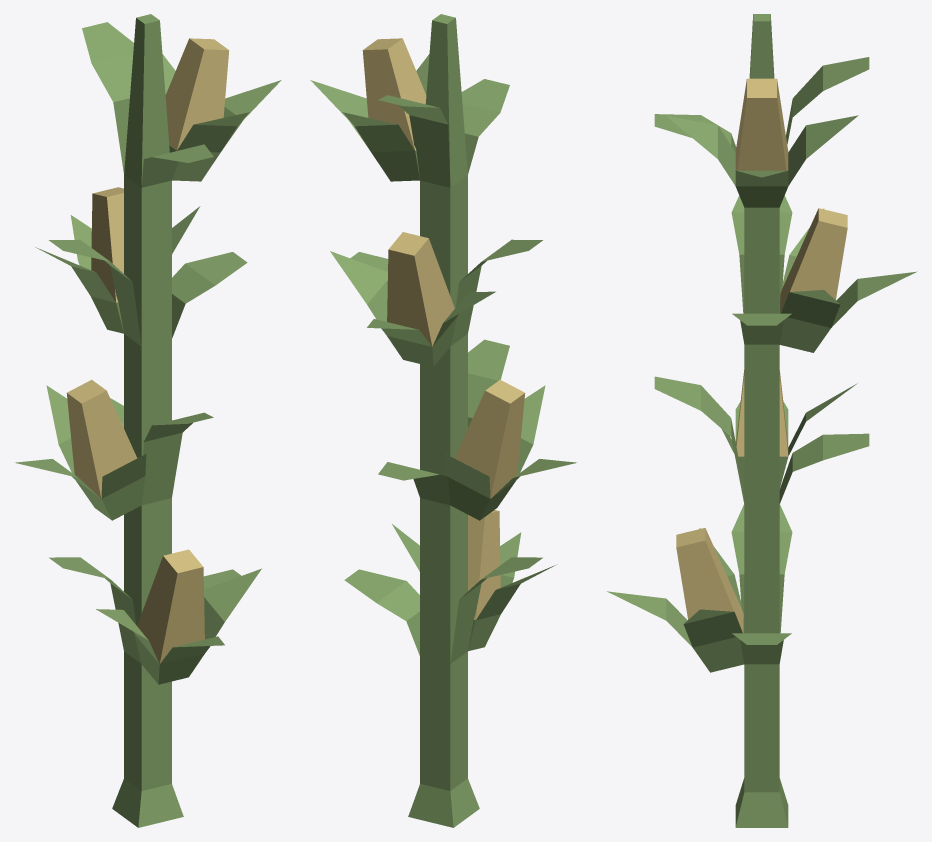
The model's file is corn.glb.
3 renders of one model, left to right at view 1: azimuth 30°, elevation 25°; view 2: azimuth 150°, elevation 25°; view 3: azimuth 270°, elevation 25°, orthographic.
Parts seen in each view (by area): view 1: geometry_0, geometry_8, geometry_6, geometry_2, geometry_7, geometry_5, geometry_1, geometry_4, geometry_3; view 2: geometry_0, geometry_4, geometry_6, geometry_3, geometry_2, geometry_5, geometry_1, geometry_8, geometry_7; view 3: geometry_0, geometry_1, geometry_7, geometry_3, geometry_2, geometry_4, geometry_8, geometry_5, geometry_6.
Boxes of the visible parts, x1,y1,x2,y2 form: geometry_0: [49, 14, 247, 827]; geometry_8: [137, 549, 204, 663]; geometry_6: [66, 379, 137, 498]; geometry_2: [165, 38, 229, 150]; geometry_7: [96, 568, 261, 684]; geometry_5: [15, 385, 146, 520]; geometry_1: [162, 54, 281, 181]; geometry_4: [91, 187, 123, 302]; geometry_3: [35, 206, 200, 333]; geometry_0: [344, 14, 542, 827]; geometry_4: [387, 232, 454, 346]; geometry_6: [454, 379, 525, 498]; geometry_3: [330, 251, 495, 367]; geometry_2: [362, 38, 426, 150]; geometry_5: [445, 385, 576, 520]; geometry_1: [310, 54, 429, 181]; geometry_8: [468, 510, 500, 620]; geometry_7: [392, 524, 557, 651]; geometry_0: [654, 14, 869, 827]; geometry_1: [665, 115, 858, 207]; geometry_7: [607, 528, 744, 672]; geometry_3: [779, 208, 916, 352]; geometry_2: [735, 78, 788, 170]; geometry_4: [780, 208, 847, 313]; geometry_8: [676, 528, 743, 633]; geometry_5: [721, 383, 857, 488]; geometry_6: [736, 370, 788, 456].
Bounding box in the file's own units: 0.3533 × 1 × 0.3533.
